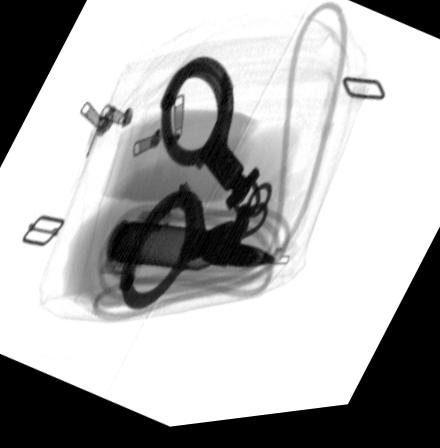Bullet: (104, 218, 274, 277)
HandCuffs: (118, 60, 276, 313)
